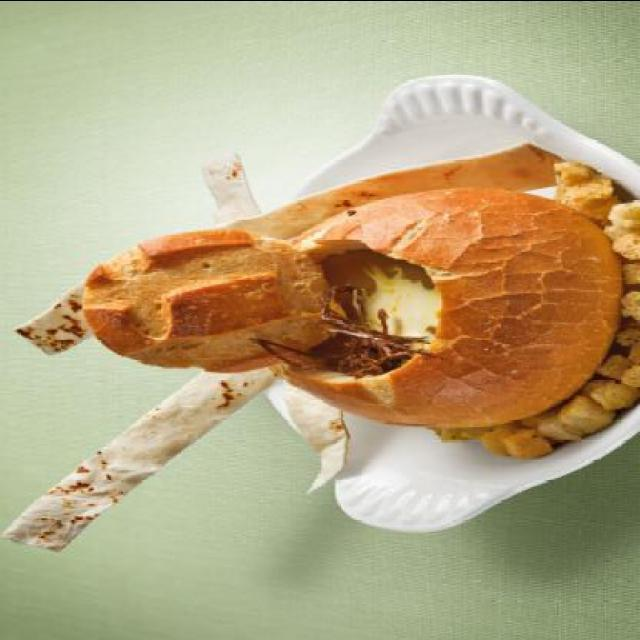Bread: (77, 230, 346, 372)
